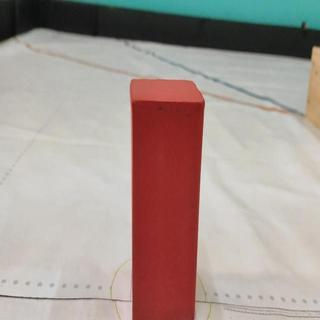redbox: (129, 77, 206, 320)
